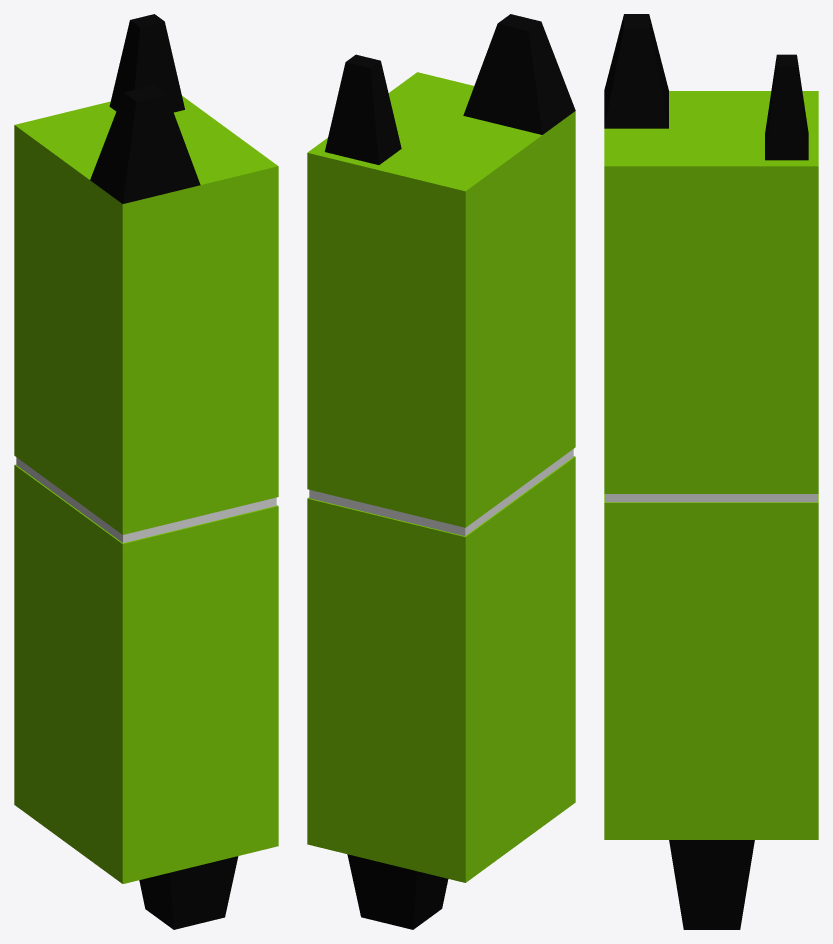
Rendered from Fusible_3.fbx.
3 renders of one model, left to right at view 1: azimuth 30°, elevation 25°; view 2: azimuth 150°, elevation 25°; view 3: azimuth 270°, elevation 25°, orthographic. The views are drawn at different scales.
Parts seen in each view (by area): view 1: Fusible.002; view 2: Fusible.002; view 3: Fusible.002.
Boxes of the visible parts, x1,y1,x2,y2 form: Fusible.002: (14, 14, 278, 929); Fusible.002: (307, 14, 575, 929); Fusible.002: (604, 14, 818, 929).
Size of the model in its own units: 47.93 by 255 by 57.74.
